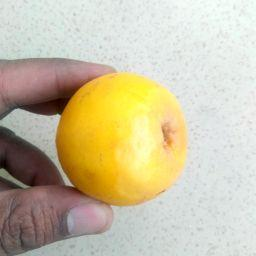Ripe: (57, 70, 183, 207)
